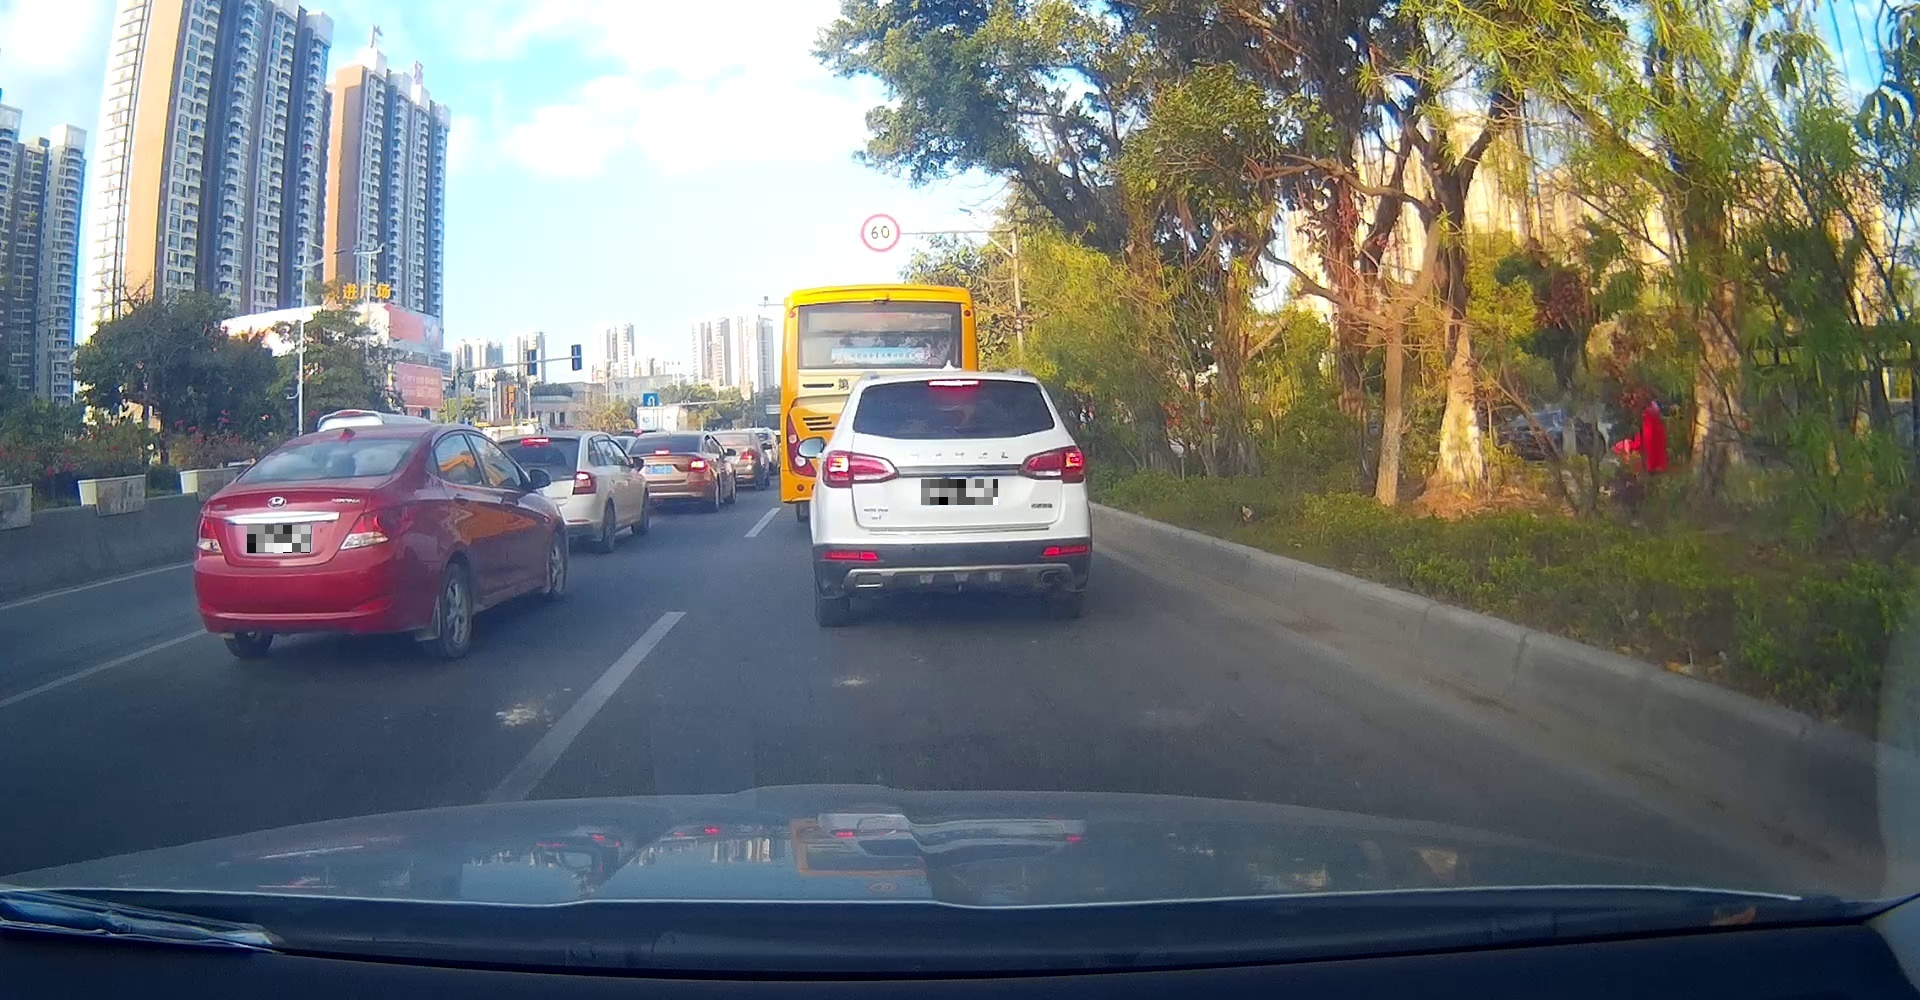L_light: (820, 449, 899, 489), (196, 516, 222, 560)
R_light: (337, 503, 422, 549), (1018, 444, 1086, 484)
T_light: (928, 379, 978, 387), (316, 439, 350, 445)
day-brake: (811, 371, 1090, 621)
day-no: (192, 430, 430, 661)
plate_1: (248, 525, 311, 553)
plate_2: (921, 478, 998, 505)
